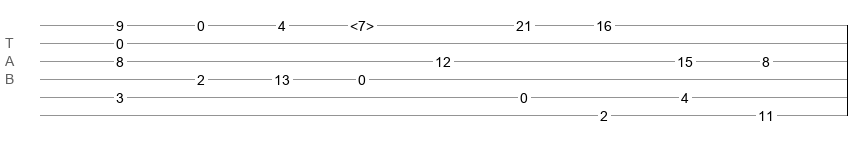0: (116, 36, 124, 46), (197, 18, 205, 28), (358, 72, 366, 82), (520, 90, 528, 100)
11: (758, 108, 774, 118)
12: (435, 54, 451, 64)
13: (274, 72, 290, 82)
15: (677, 54, 693, 64)
16: (596, 18, 612, 28)
2: (197, 72, 205, 82), (600, 108, 608, 118)
21: (516, 18, 532, 28)
3: (116, 90, 124, 100)
4: (278, 18, 286, 28), (681, 90, 689, 100)
8: (116, 54, 124, 64), (762, 54, 770, 64)
9: (116, 18, 124, 28)
harmonic: (350, 18, 374, 28)
